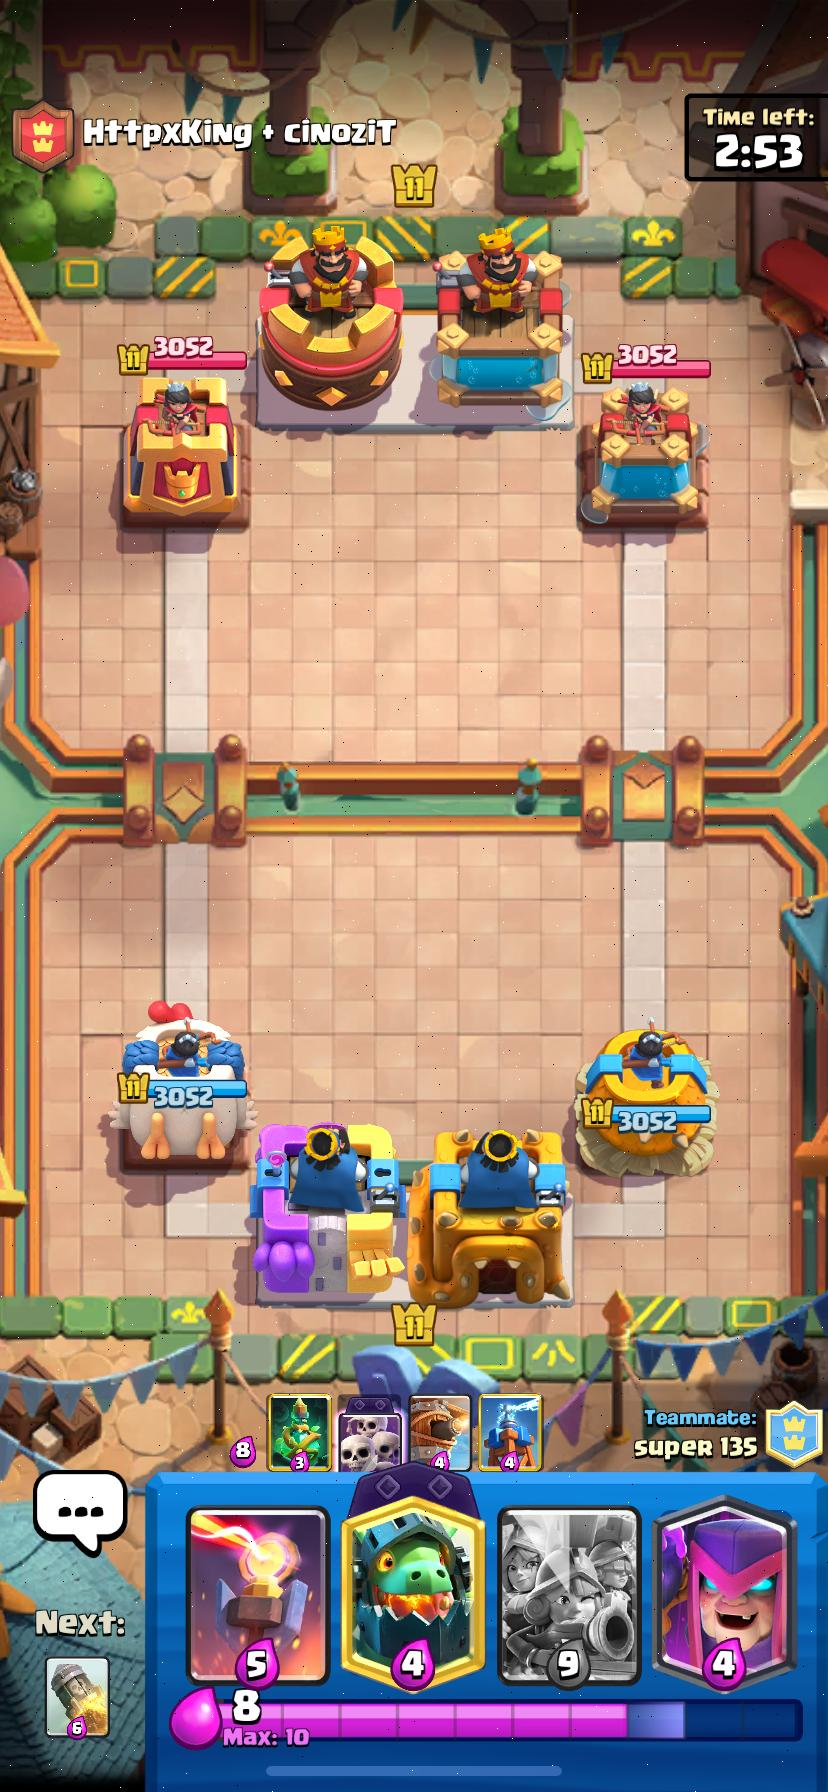EKingTower: (260, 225, 403, 410), (431, 226, 564, 408)
EnemyPrincessTower: (124, 375, 247, 523), (580, 387, 709, 526)
OwnKingTower: (408, 1129, 572, 1306), (253, 1123, 401, 1301)
OwnPrincessTower: (111, 1003, 254, 1159), (576, 1019, 717, 1175)
